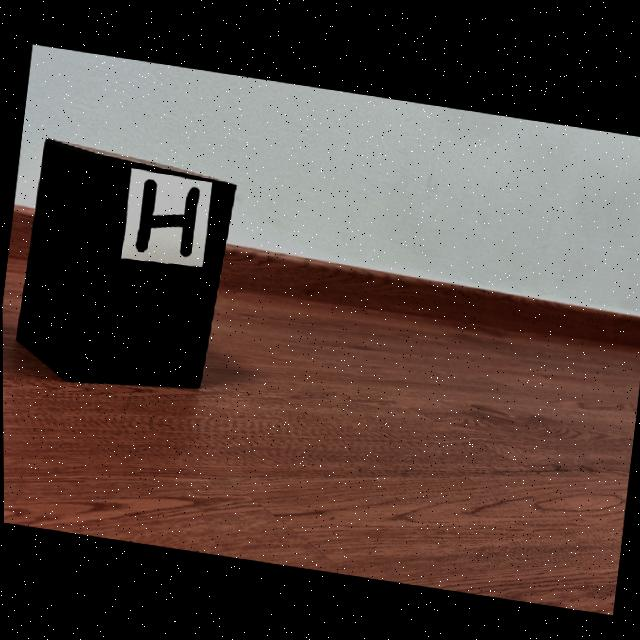H: (135, 179, 198, 256)
